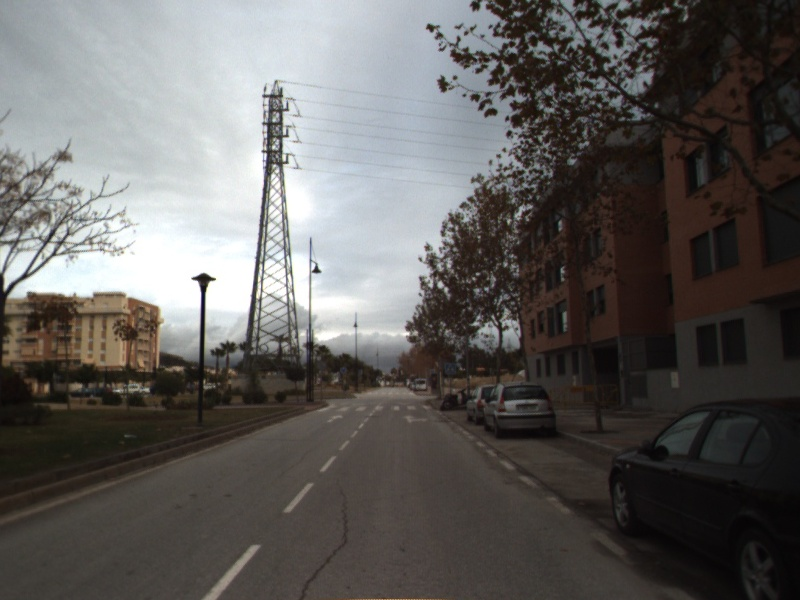STRAIGHT: (325, 412, 346, 424)
STRAIGHT_RIGHT: (400, 413, 430, 425)
